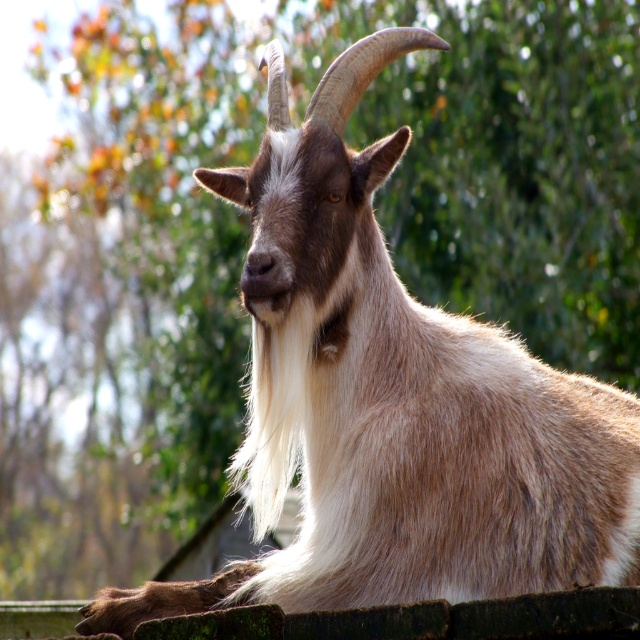Goat: (77, 24, 640, 626)
